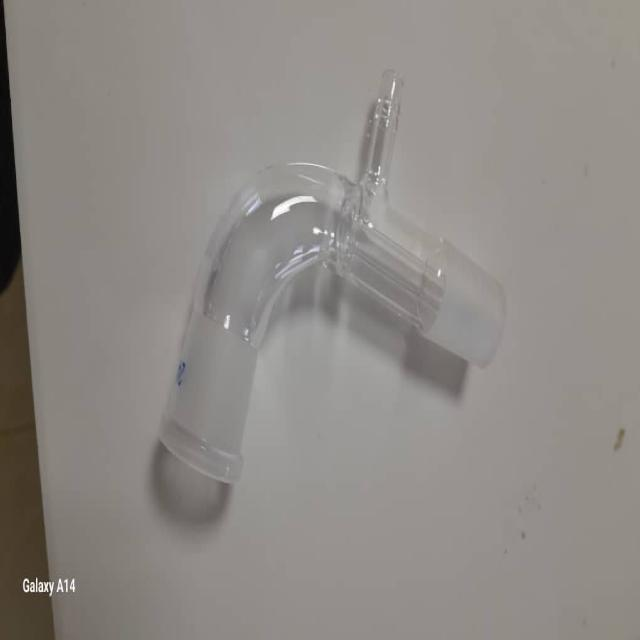Angled Extension for Vacuum Distillation: (137, 70, 514, 493)
